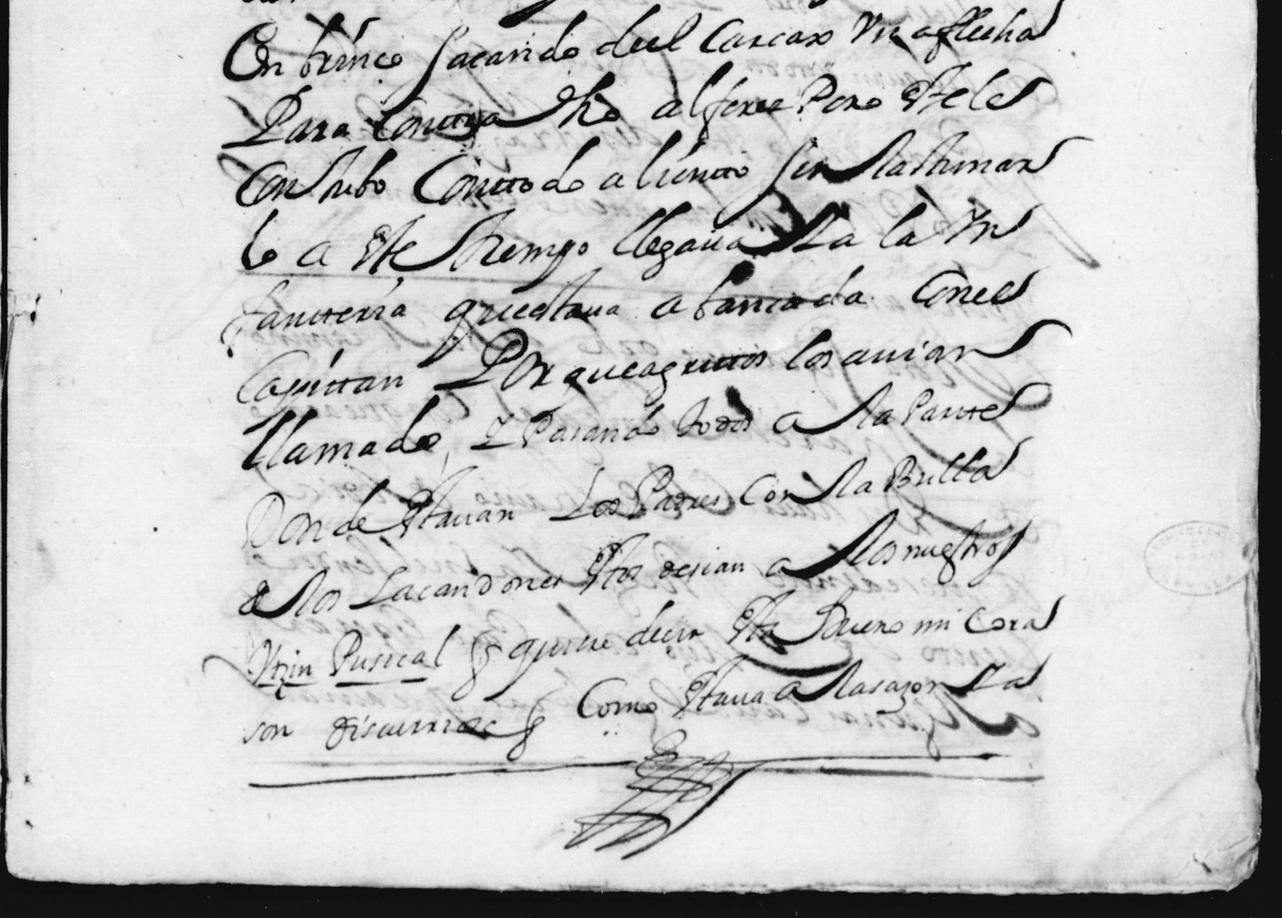lacandon: (349, 566, 563, 609)
